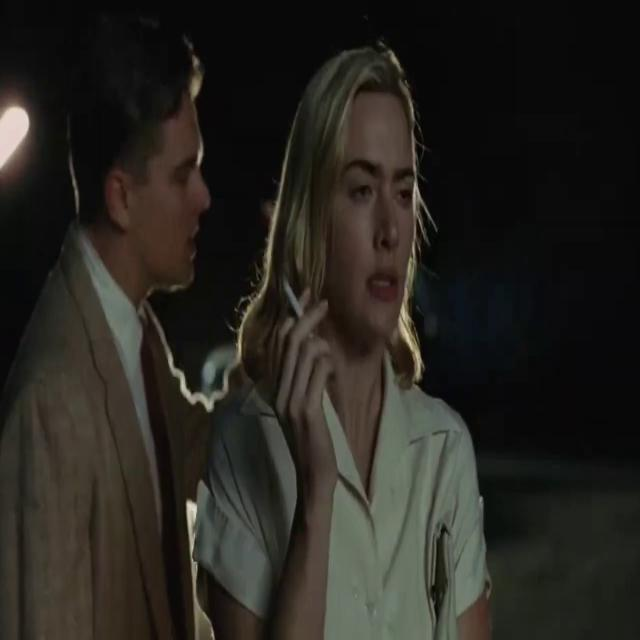Smooking: (280, 273, 308, 321)
